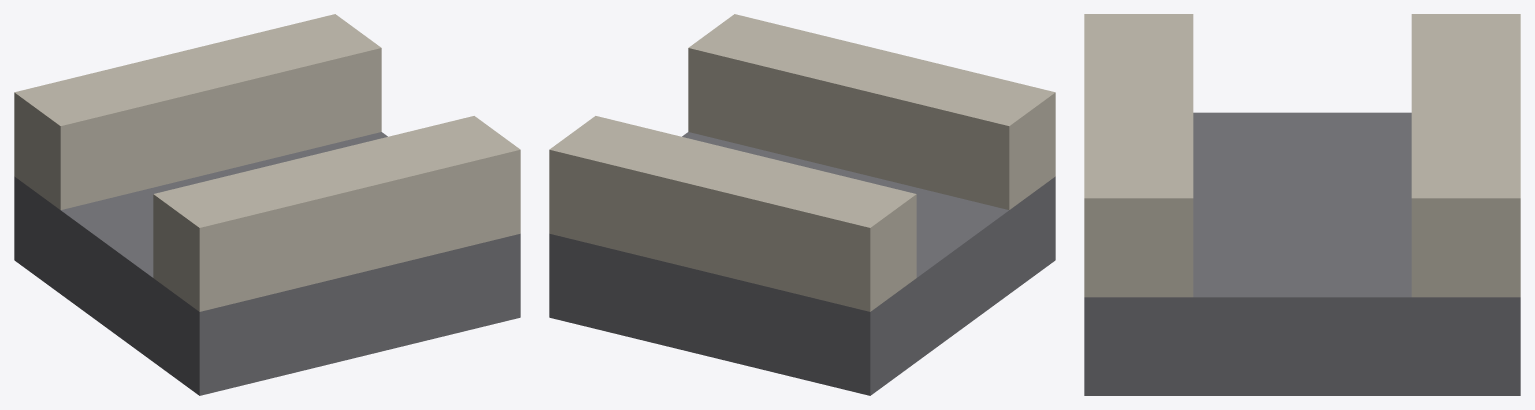
File: roof_flat_strip.glb
3 renders of one model, left to right at view 1: azimuth 30°, elevation 25°; view 2: azimuth 150°, elevation 25°; view 3: azimuth 270°, elevation 25°, orthographic. The views are drawn at different scales.
Visible parts, largest first — view 1: roof_flat_strip; view 2: roof_flat_strip; view 3: roof_flat_strip.
Boxes of the visible parts, left/top/right/bottom form: roof_flat_strip: left=14, top=14, right=520, bottom=395; roof_flat_strip: left=549, top=14, right=1055, bottom=395; roof_flat_strip: left=1084, top=14, right=1520, bottom=395.
Size of the model in its own units: 1 by 0.5 by 1.
1 material, 1 textured.
